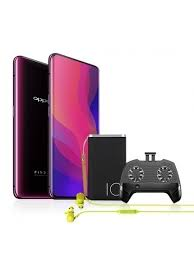oppo: (12, 53, 51, 201)
